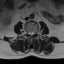CCS_stenosis: (30, 30, 32, 37)
LFS_normal: (34, 30, 36, 36)
LLS_normal: (32, 30, 34, 37)
RFS_normal: (27, 29, 28, 35)
RLS_normal: (28, 30, 30, 36)
